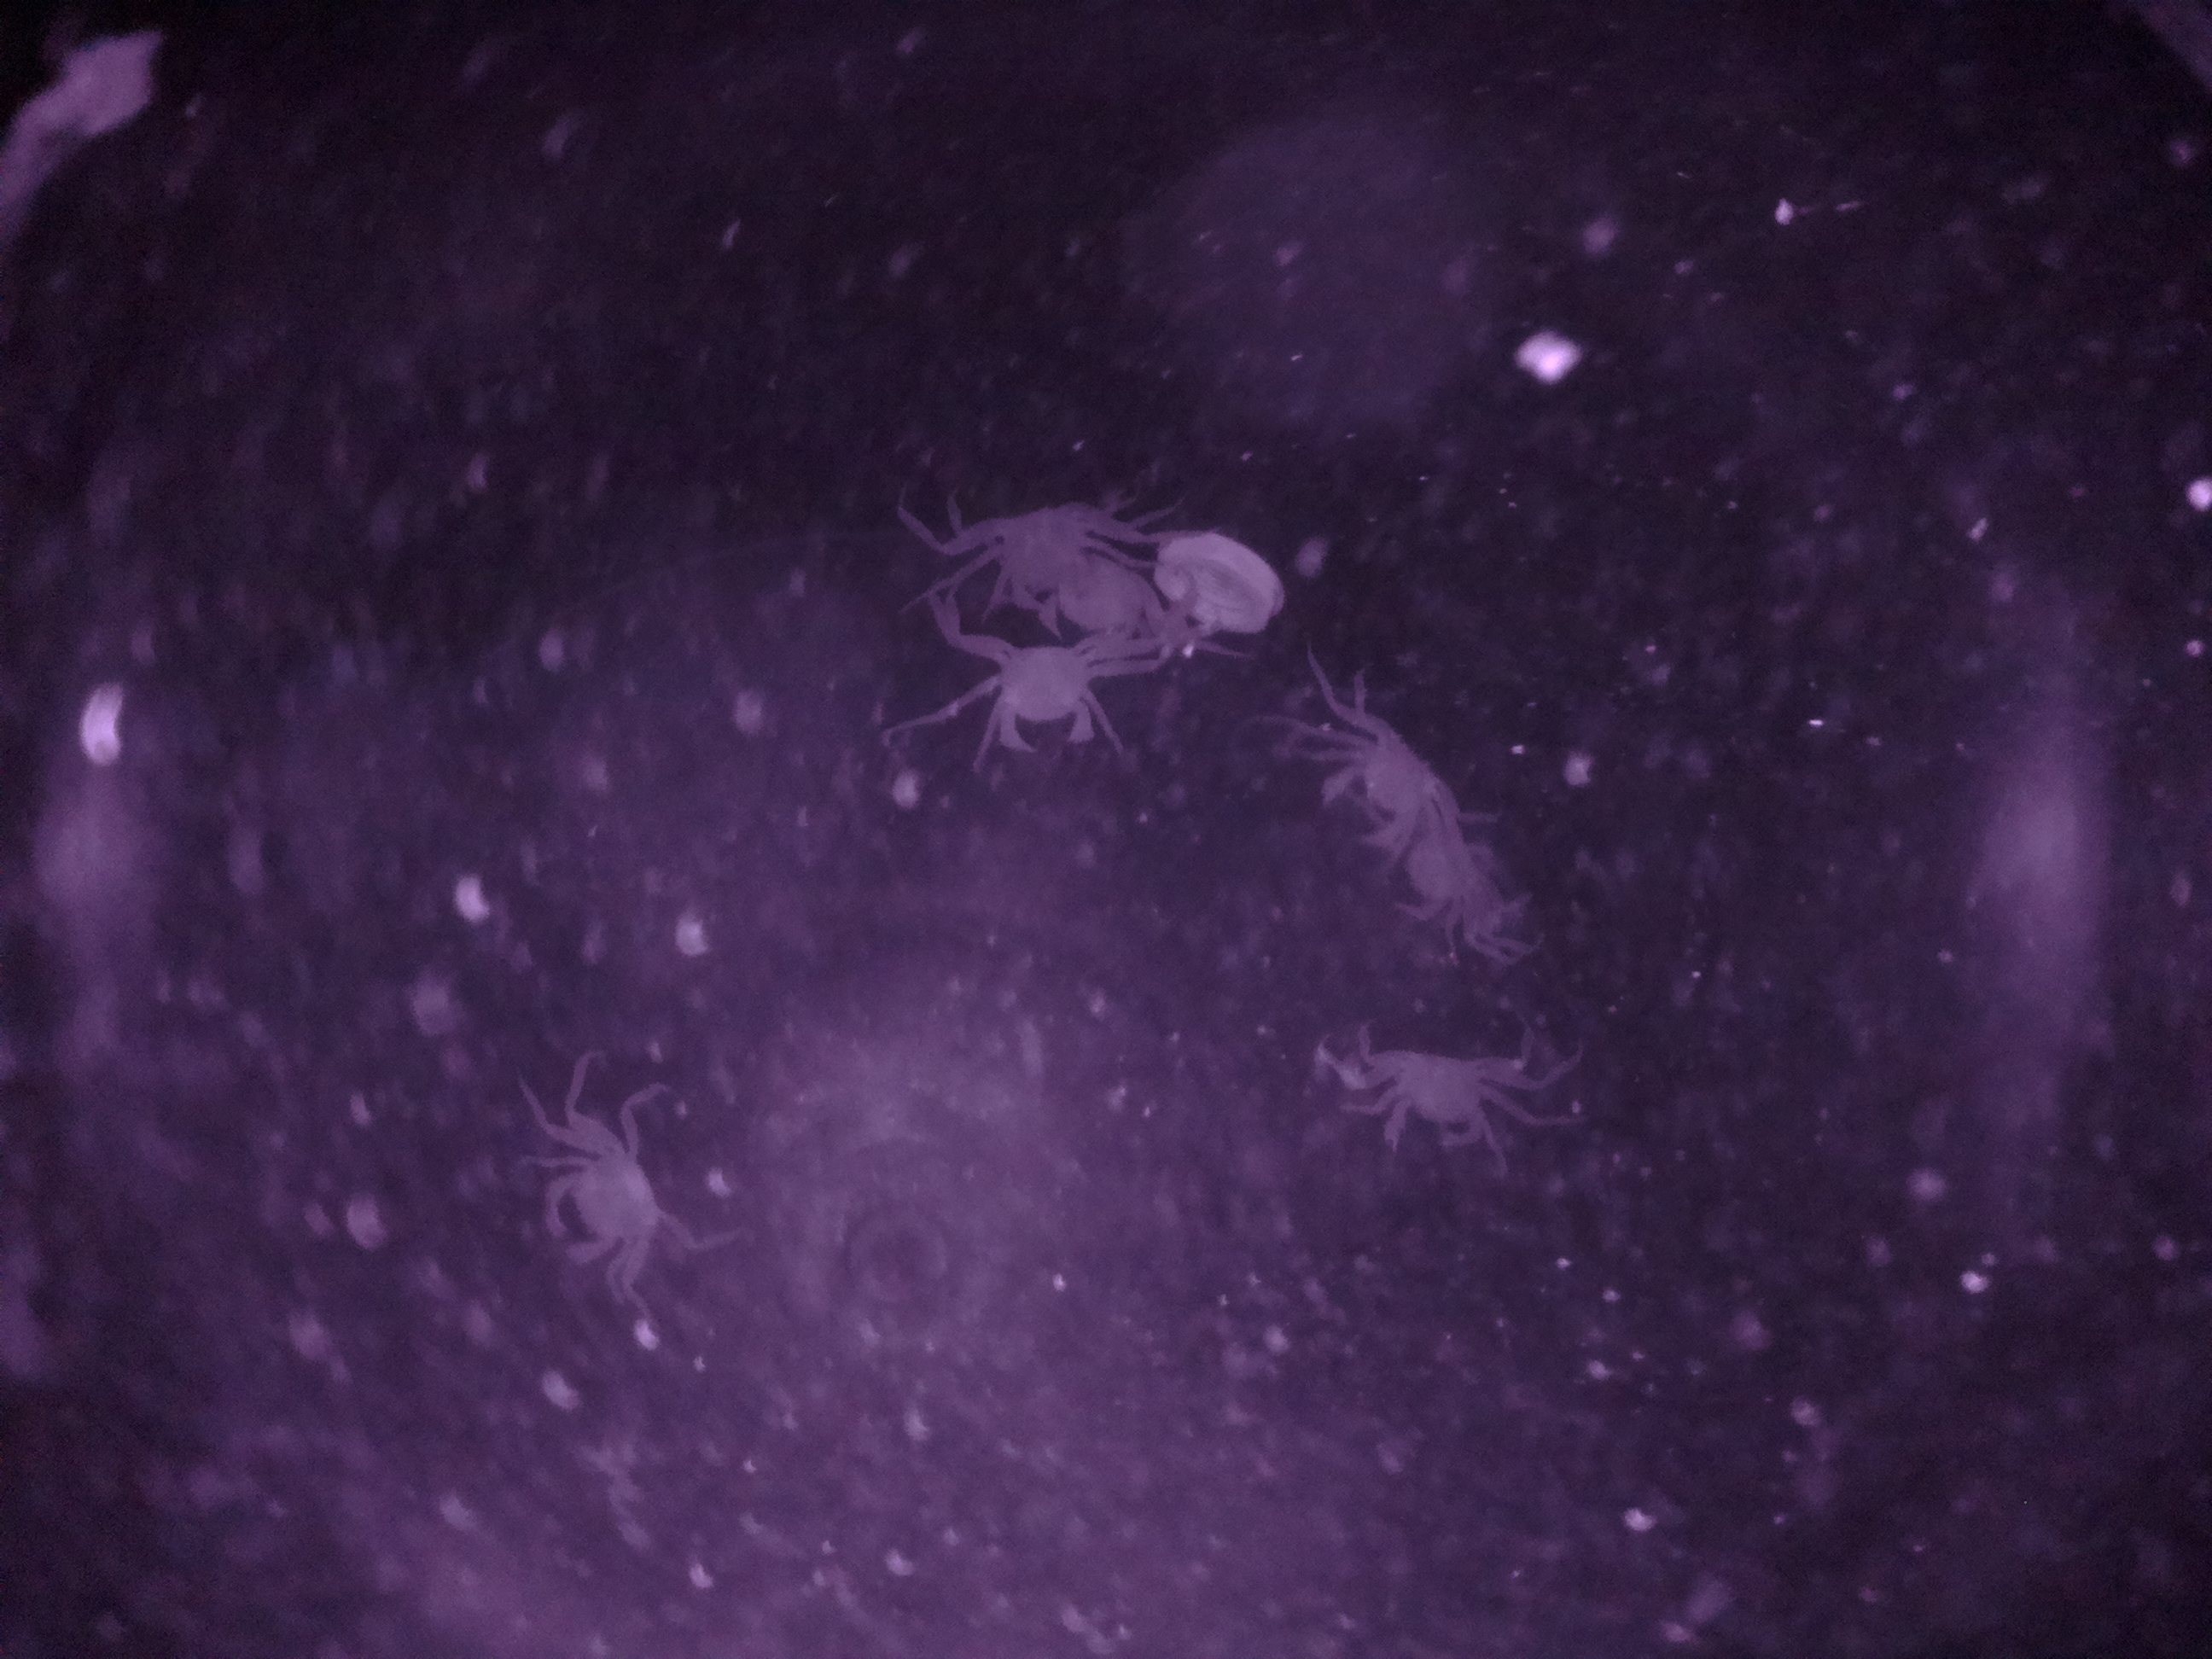Crab: (1278, 999, 1595, 1178), (510, 1063, 719, 1317), (925, 605, 1155, 782), (1303, 683, 1487, 882)
